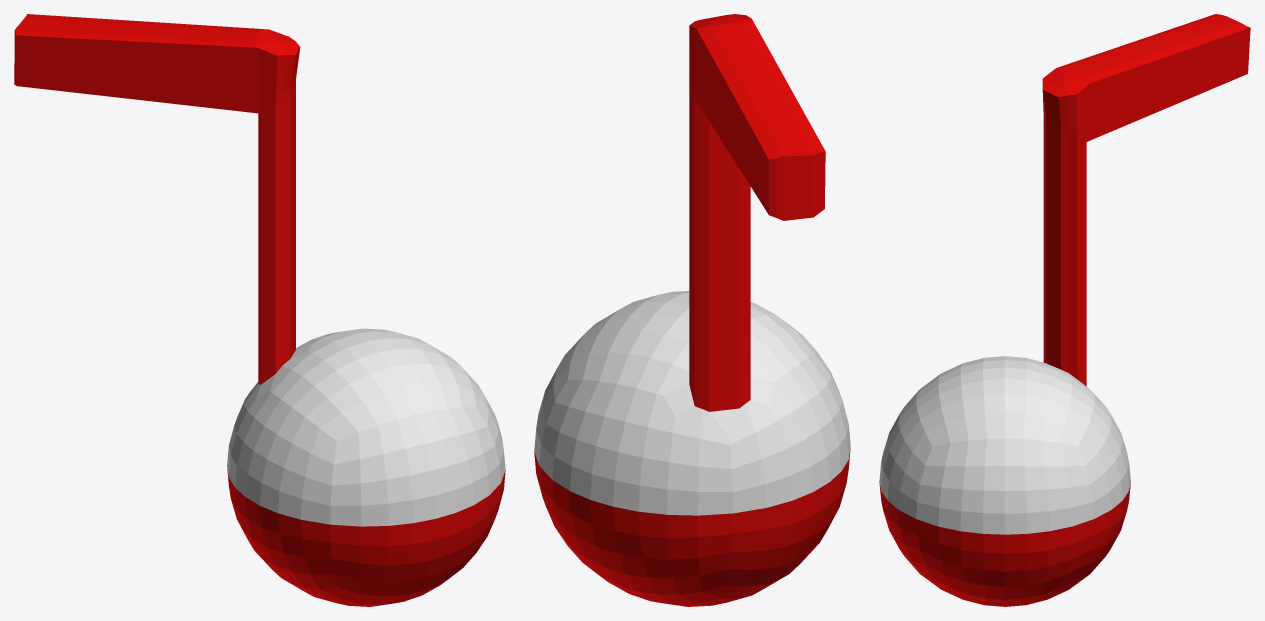
File: bobber.fbx
The picture shows the model from 3 angles, left to right: view 1: azimuth 30°, elevation 25°; view 2: azimuth 150°, elevation 25°; view 3: azimuth 270°, elevation 25°; orthographic projection. The views are drawn at different scales.
Visible parts, largest first — view 1: Roundcube; view 2: Roundcube; view 3: Roundcube.
Boxes of the visible parts, bbox=[...] form: Roundcube: bbox=[14, 14, 505, 606]; Roundcube: bbox=[534, 14, 850, 606]; Roundcube: bbox=[879, 14, 1250, 606].
Size of the model in its own units: 294 by 433 by 295.
